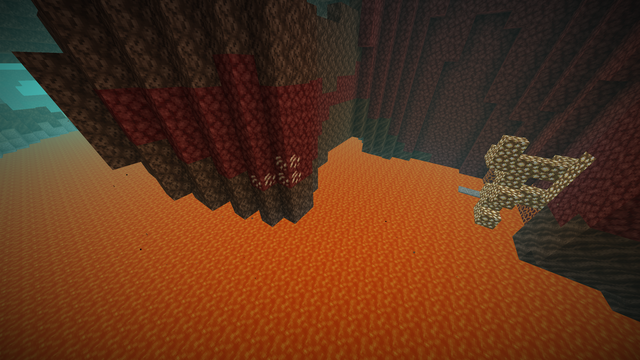quartz: (251, 153, 302, 190)
